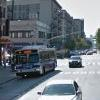Bus: (15, 46, 58, 79)
